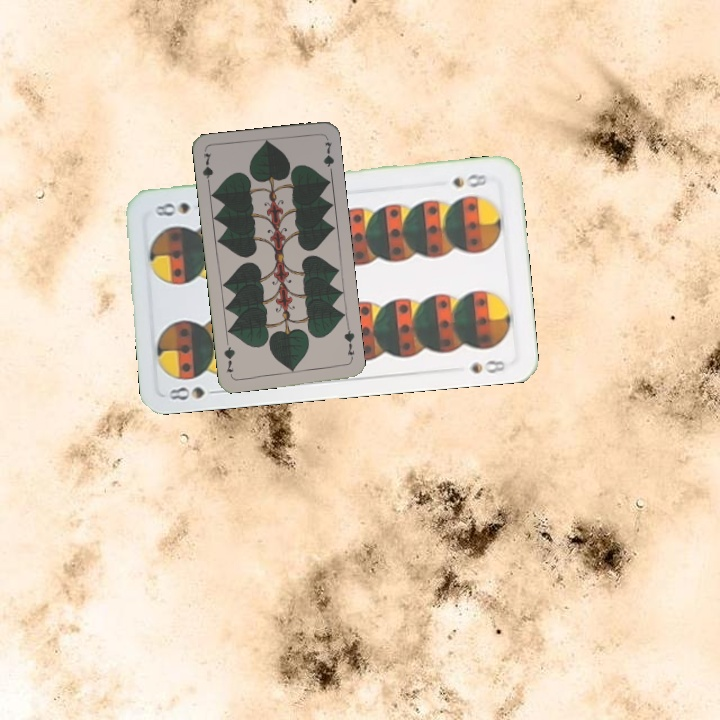G7: (198, 149, 216, 189), (340, 323, 357, 363)
S8: (165, 383, 224, 403), (449, 170, 491, 190)
